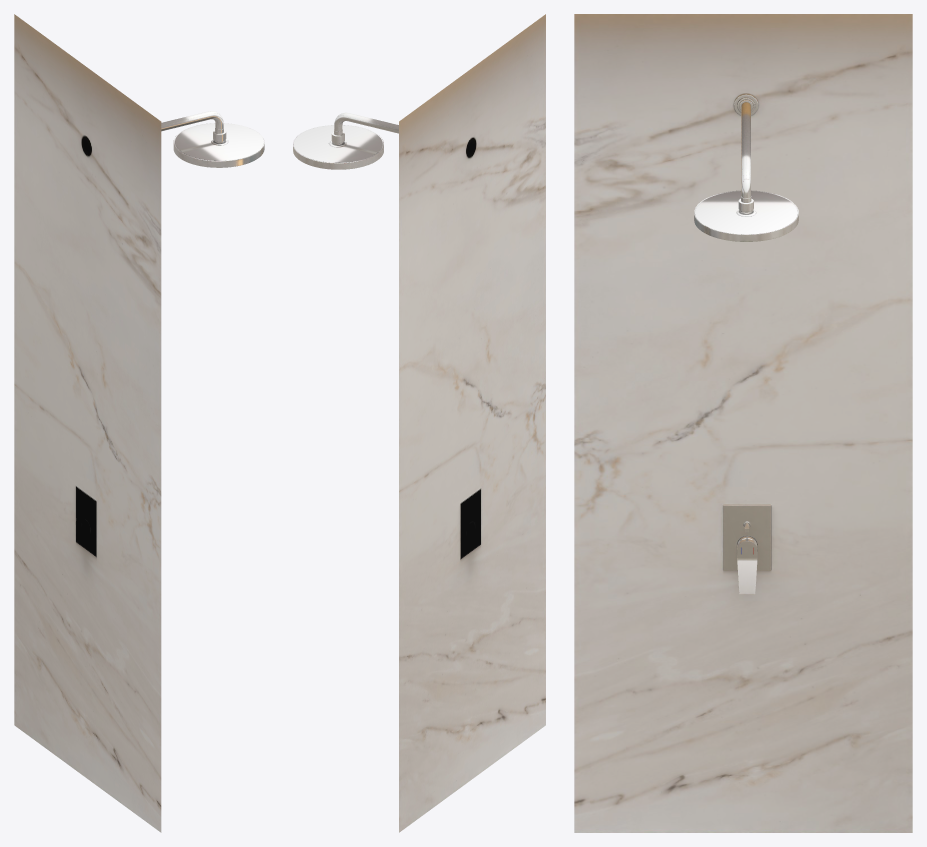
The picture shows the model from 3 angles, left to right: view 1: azimuth 30°, elevation 25°; view 2: azimuth 150°, elevation 25°; view 3: azimuth 270°, elevation 25°; orthographic projection. The views are drawn at different scales.
Parts seen in each view (by area): view 1: f160124; view 2: f160124; view 3: f160124.
Part boxes in pixels (x1,y1,x2,y2): f160124: (14,14,264,832); f160124: (293,14,545,832); f160124: (574,14,912,832).
Size of the model in its own units: 0.7594 by 3 by 1.12.
Materials: 1 (1 with a texture image).
